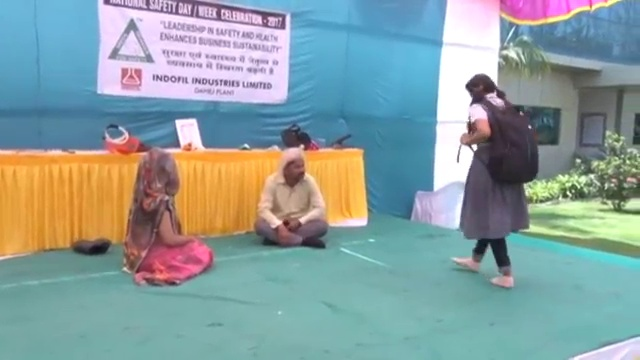helmet_off: (135, 150, 179, 193), (281, 145, 305, 184), (465, 74, 495, 98)
person: (451, 74, 542, 291), (120, 149, 214, 288), (254, 145, 329, 247)
